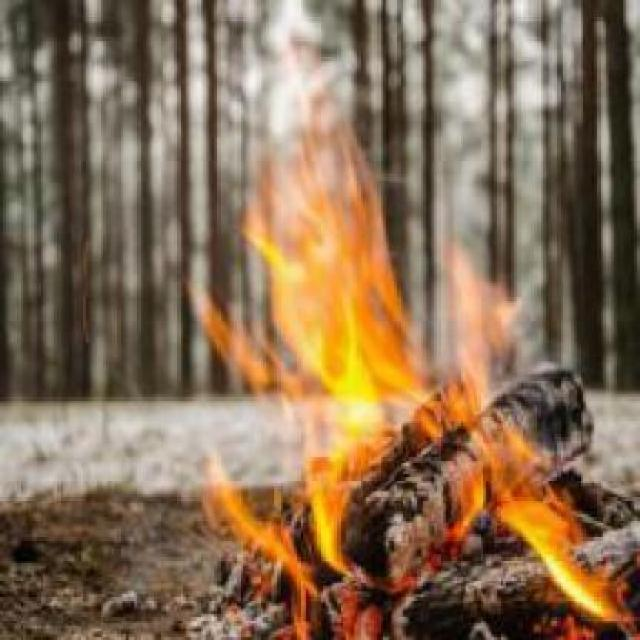Fire: (195, 144, 640, 640)
